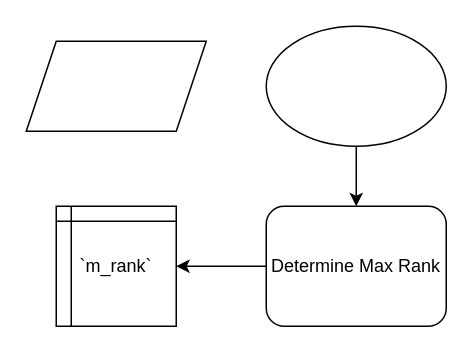
Image size: 473x353. Some labels were removed from this diagram. The box of each missing label's shape, as (x1, y1, x2, y2) in pixels:
Pushed Element `input`: (25, 40, 206, 131)
Start: (265, 25, 446, 146)
